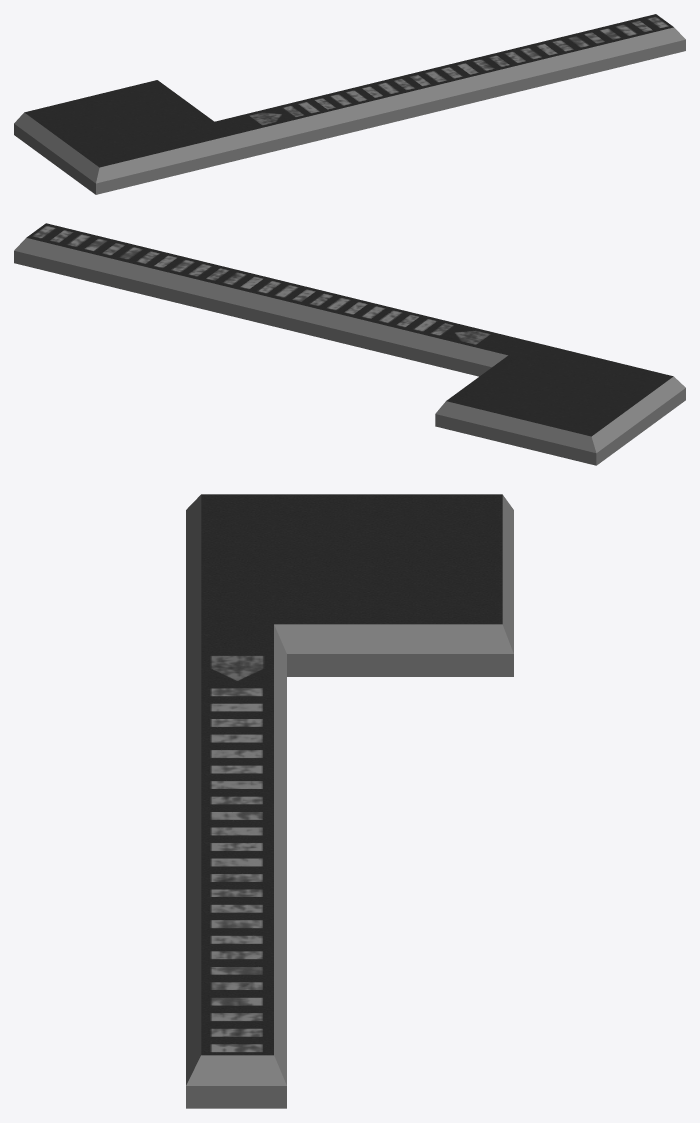
Rendered from Land strip.fbx.
3 views of the same model, one above another, from view 1: azimuth 30°, elevation 25°; view 2: azimuth 150°, elevation 25°; view 3: azimuth 270°, elevation 25° (orthographic). The views are drawn at different scales.
Visible parts, largest first — view 1: Cube; view 2: Cube; view 3: Cube.
Boxes of the visible parts, left/top/right/bottom form: Cube: left=14, top=14, right=685, bottom=194; Cube: left=14, top=223, right=685, bottom=465; Cube: left=186, top=494, right=513, bottom=1108.
Bounding box in the file's own units: 54.04 × 2 × 13.
